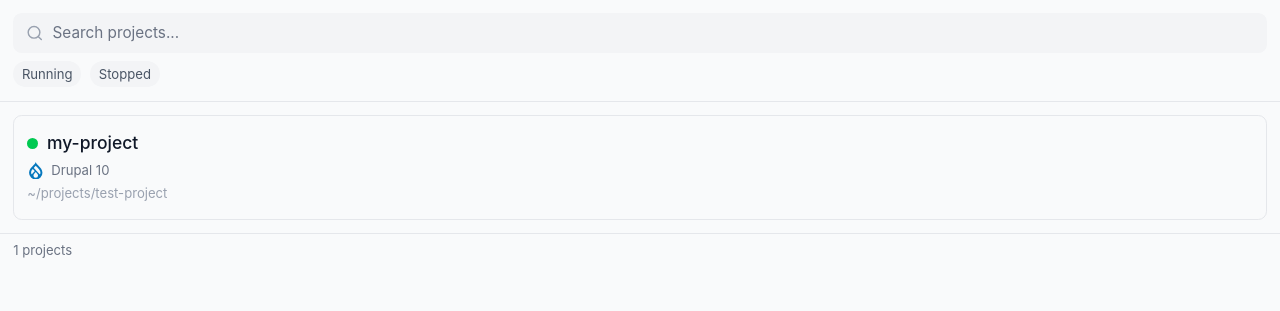
Scenario: ProjectList › search functionality › should show clear search button when search yields no results
Expected: the heading "my-project" is shown, [47,132,138,153]
Type "nonexistent" into the field with placeholder "Search projects..." at (640, 33), box [13,13,1267,52]
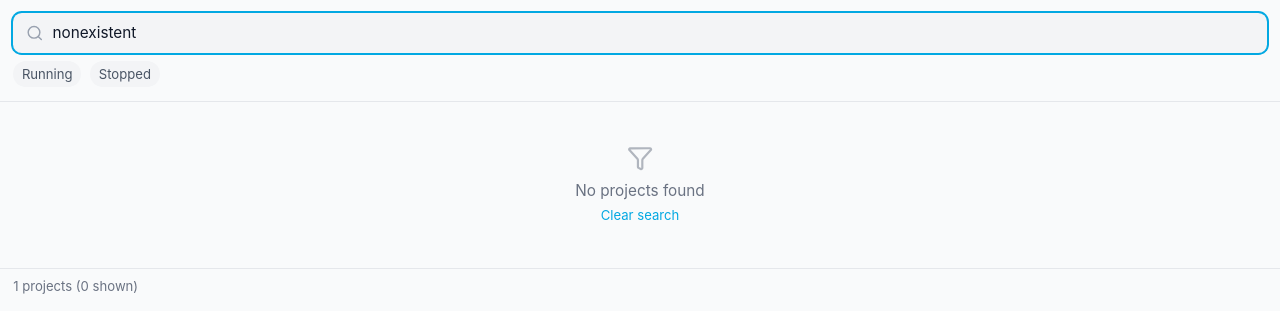
Result: the text "No projects found" is shown at [575,180,705,202]
Result: the button "Clear search" is shown at [601,207,679,224]
